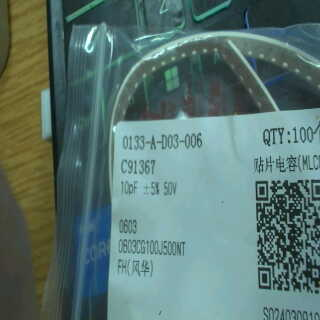10pF: (117, 178, 142, 196)
